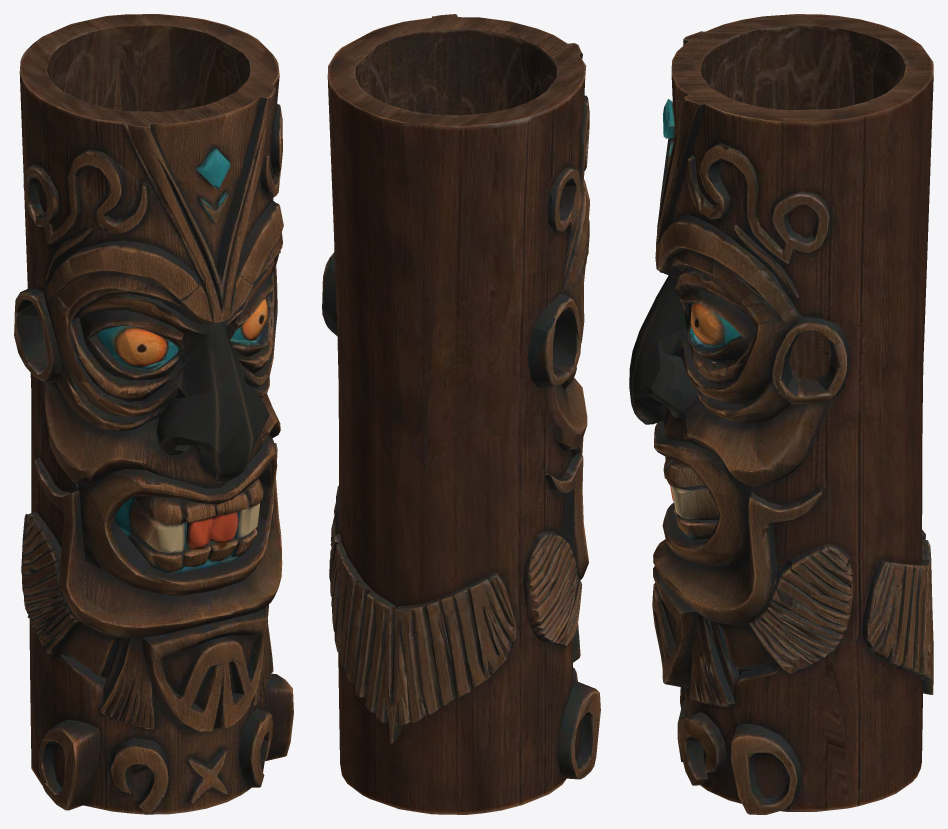
File: tiki-post.glb
The picture shows the model from 3 angles, left to right: view 1: azimuth 30°, elevation 25°; view 2: azimuth 150°, elevation 25°; view 3: azimuth 270°, elevation 25°; orthographic projection.
Bounding box in the file's own units: 0.6597 × 1.9 × 0.7547.
1 material, 1 textured.
